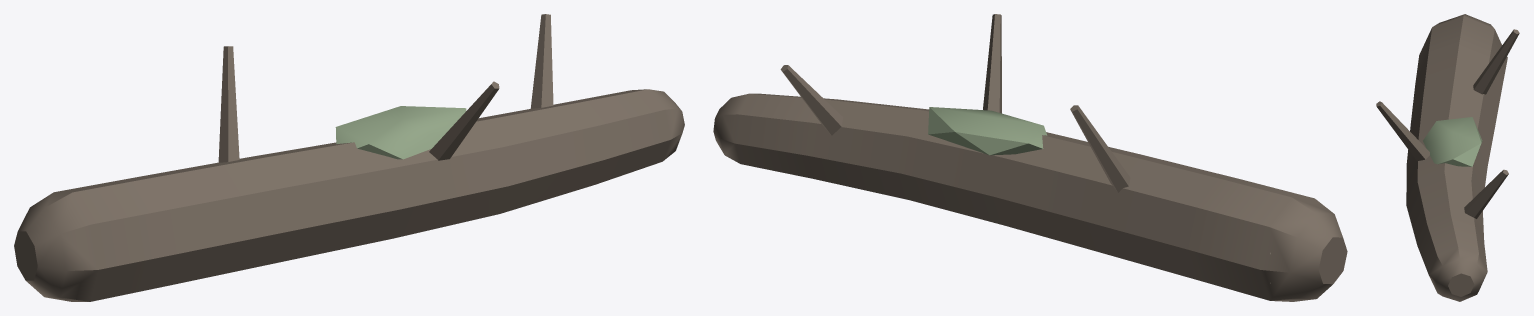
Rendered from fallen_log.gltf.
3 renders of one model, left to right at view 1: azimuth 30°, elevation 25°; view 2: azimuth 150°, elevation 25°; view 3: azimuth 270°, elevation 25°, orthographic. The views are drawn at different scales.
Visible parts, largest first — view 1: Body; view 2: Body; view 3: Body.
Part boxes in pixels (bbox=[...]): Body: bbox=[14, 14, 684, 301]; Body: bbox=[713, 14, 1347, 301]; Body: bbox=[1376, 14, 1519, 301].
Size of the model in its own units: 5.22 by 1.42 by 1.36.
